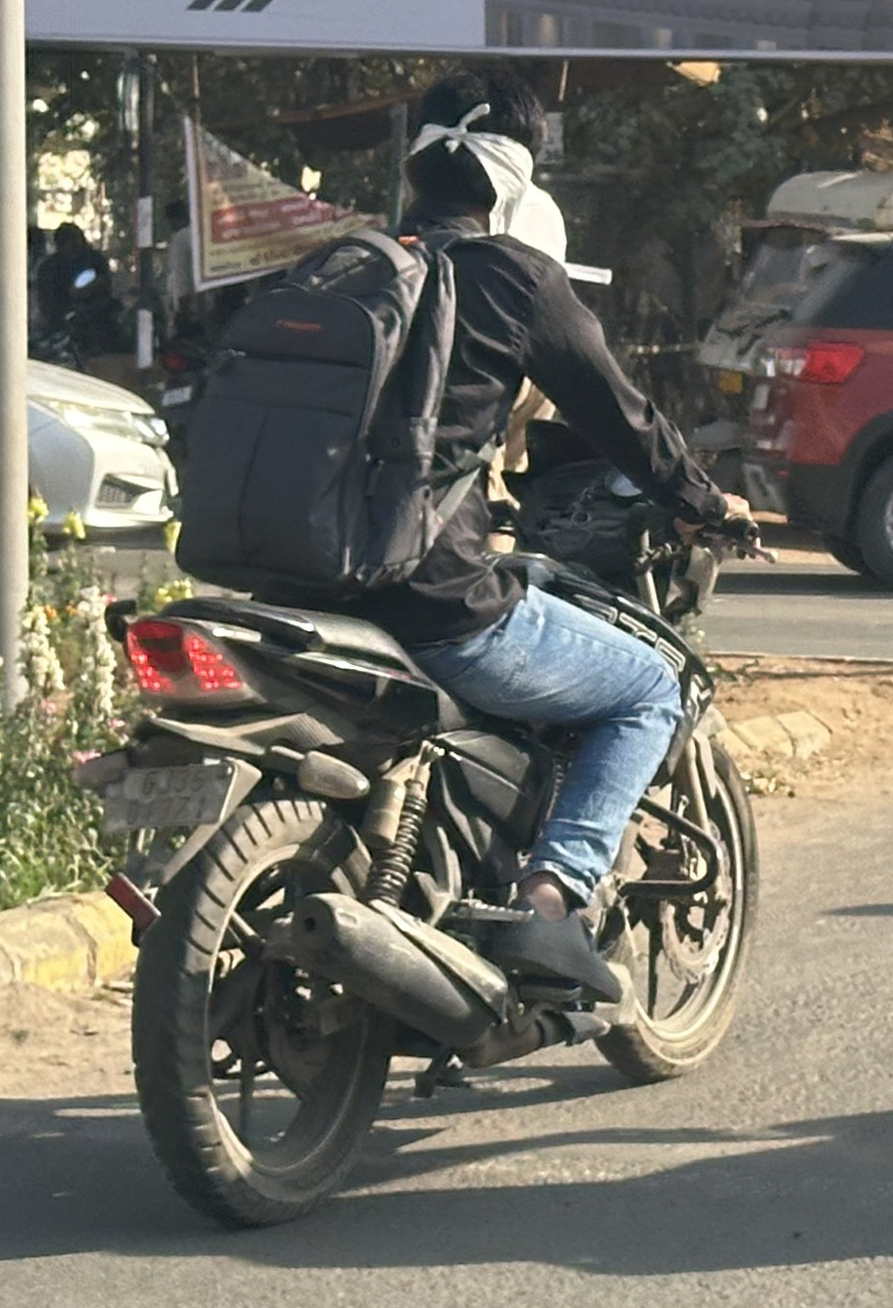BikeWithRider: (58, 50, 792, 1245)
NoHelmet: (372, 53, 586, 274)
